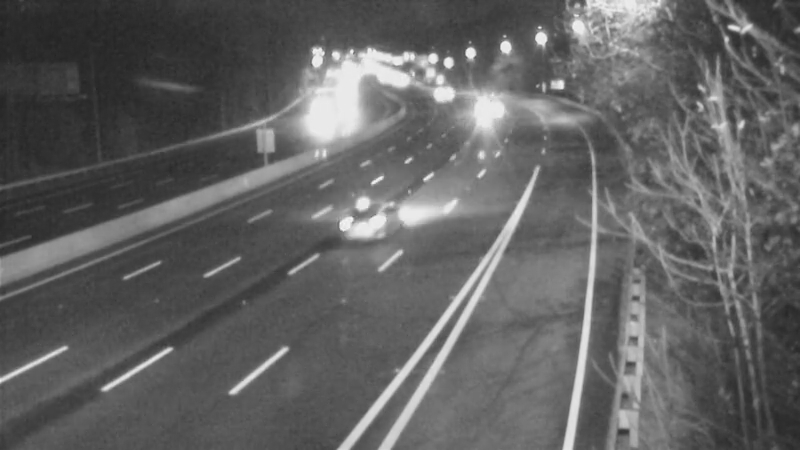vehicle: (326, 179, 406, 259), (413, 66, 463, 116), (462, 76, 512, 126)
